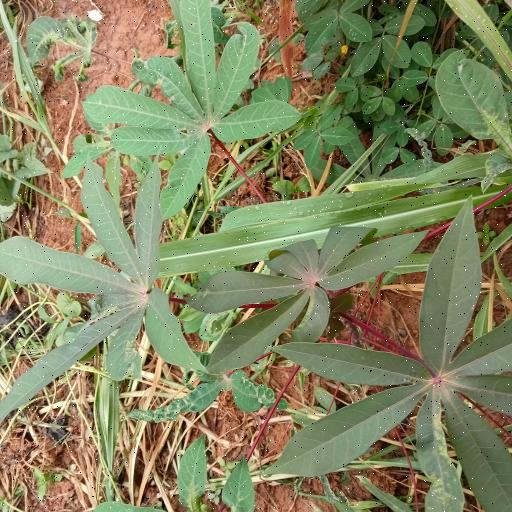Cassava_Mosaic: (280, 212, 512, 507), (9, 166, 188, 422), (92, 4, 306, 189), (190, 224, 421, 373)
